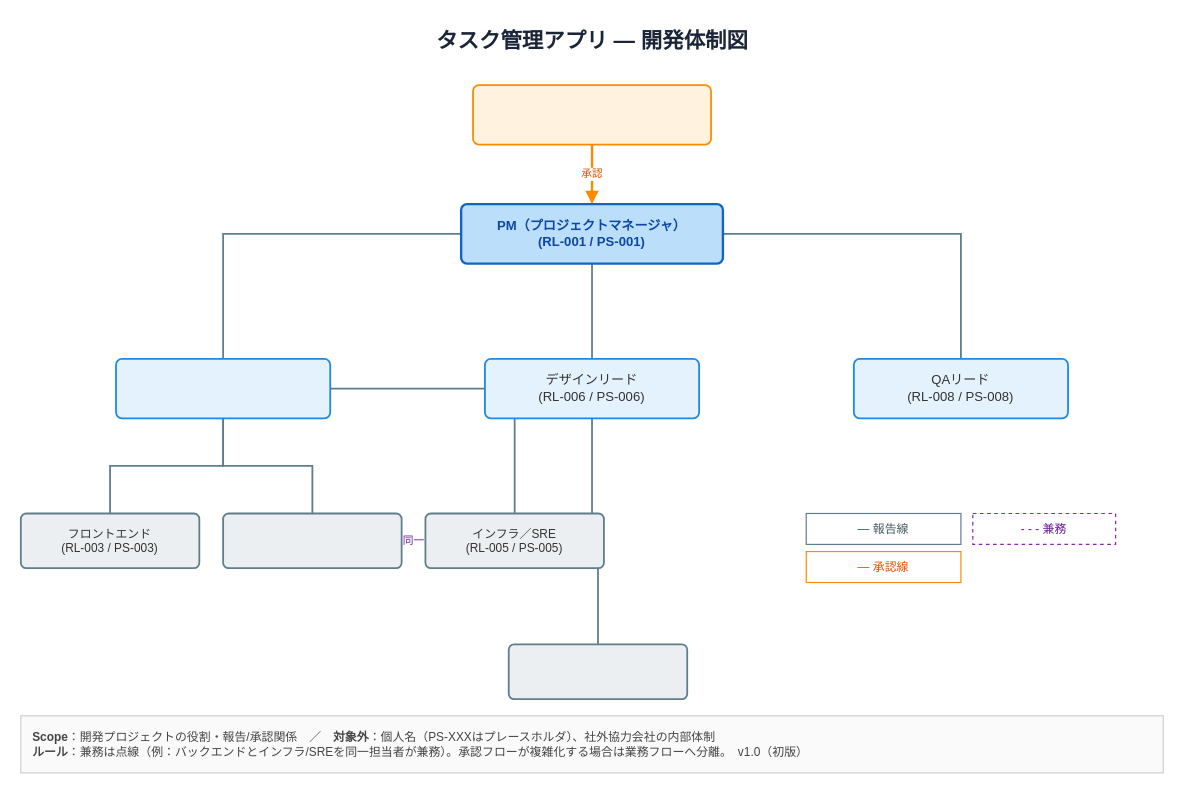
Image size: 1185x794. Some labels were removed from this diagram. The centre of each missing label's shape, as x and y in pixels:
UI／UXデザイナー (RL-007 / PS-007): the point at 597,671
テックリード (RL-002 / PS-002): the point at 223,388
バックエンド (RL-004 / PS-004): the point at 312,540
プロダクトオーナー (RL-000 / PS-000): the point at 591,114
